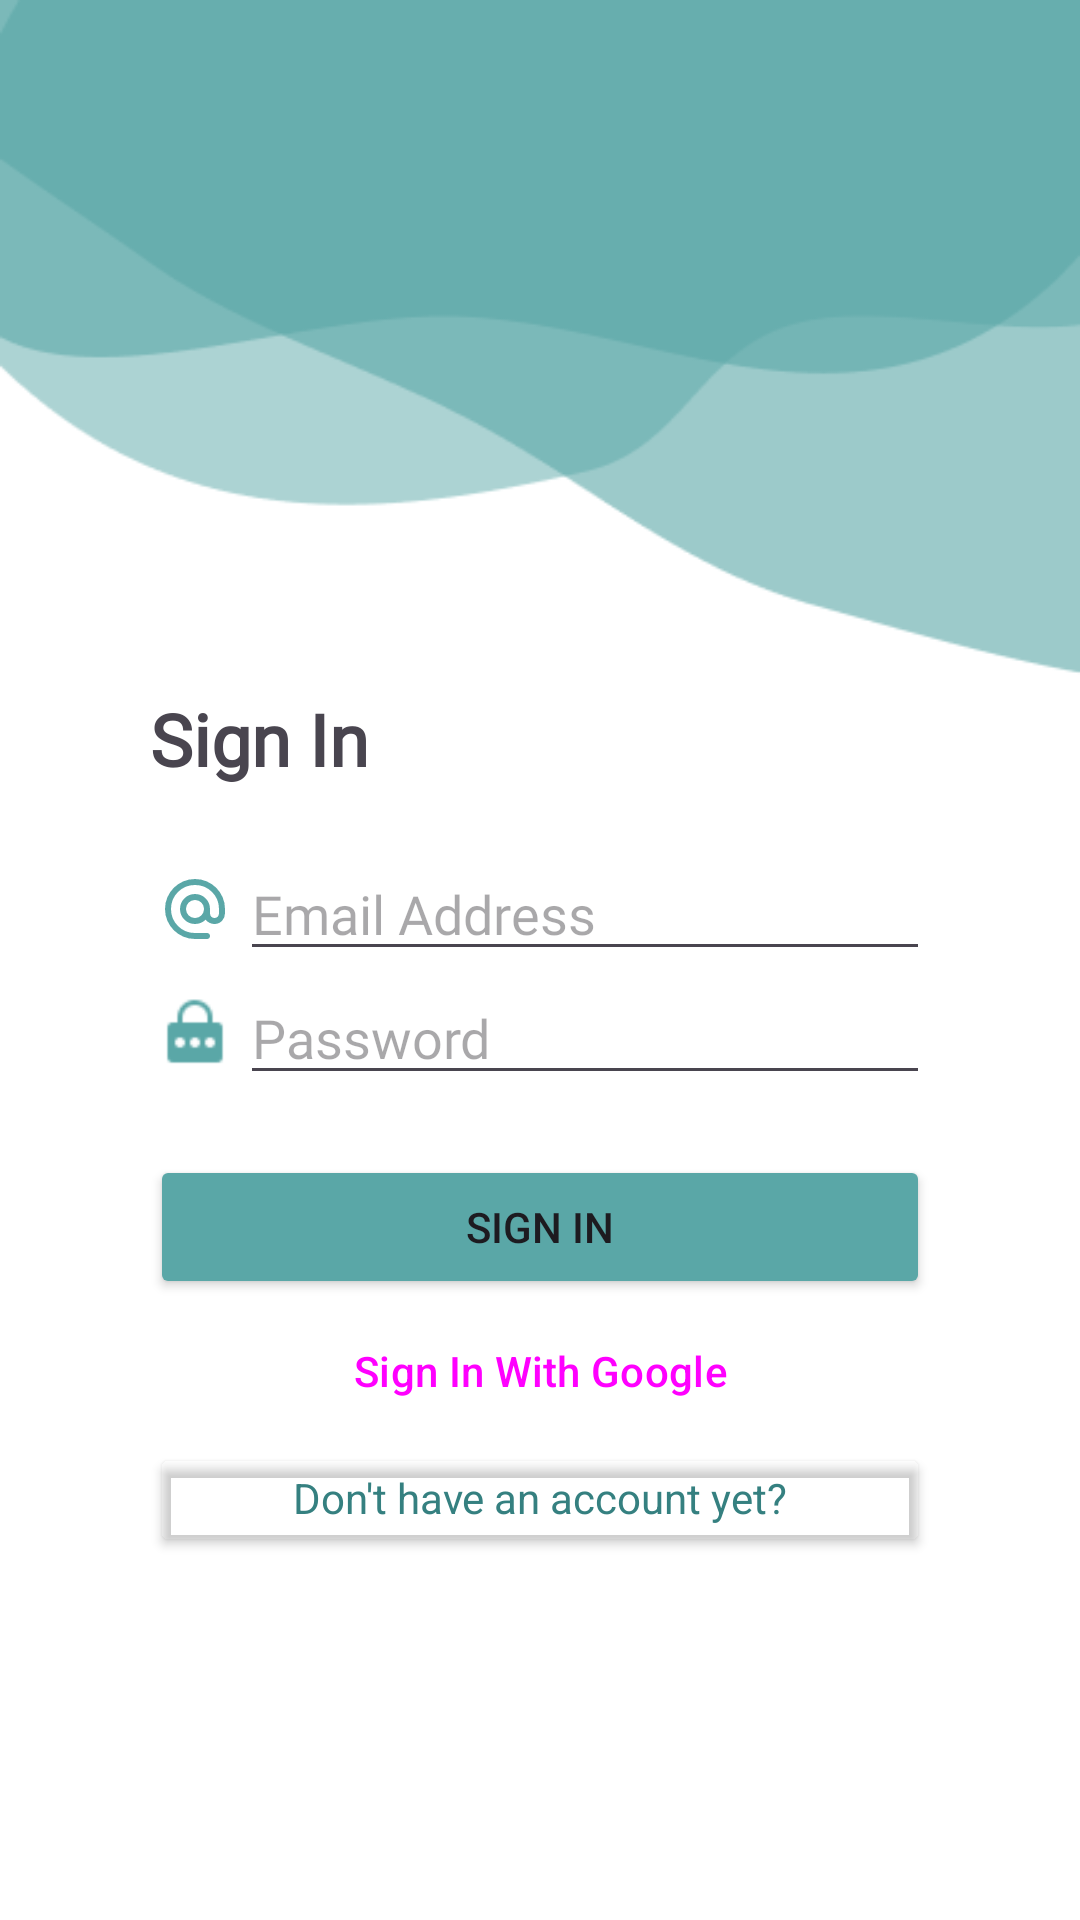

Icon click points for this 1080 x 1920 phone screenshot, format point (x, y):
alternate email: point (195, 909)
